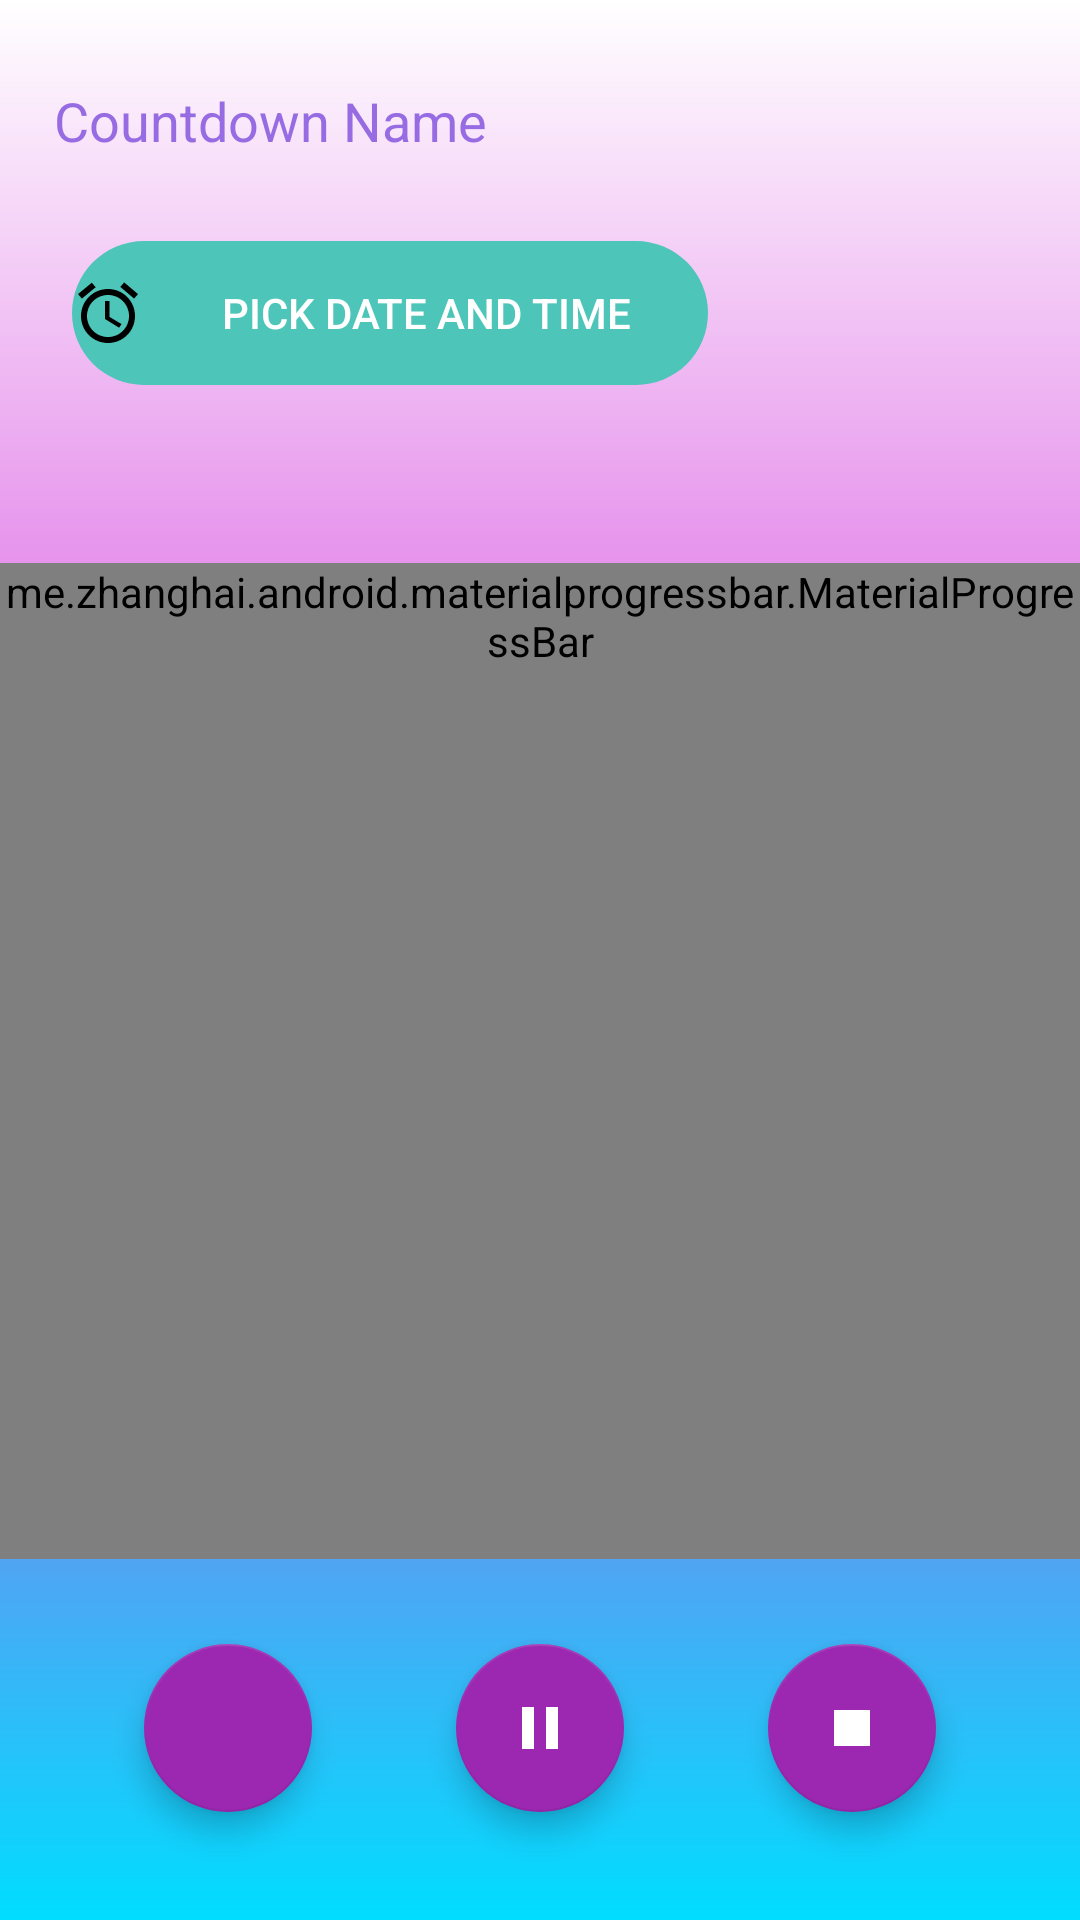

Screen size 1080 × 1920. Icon name, then its center in pixels as [x,y]:
pause: [540,1728]
stop: [852,1728]
